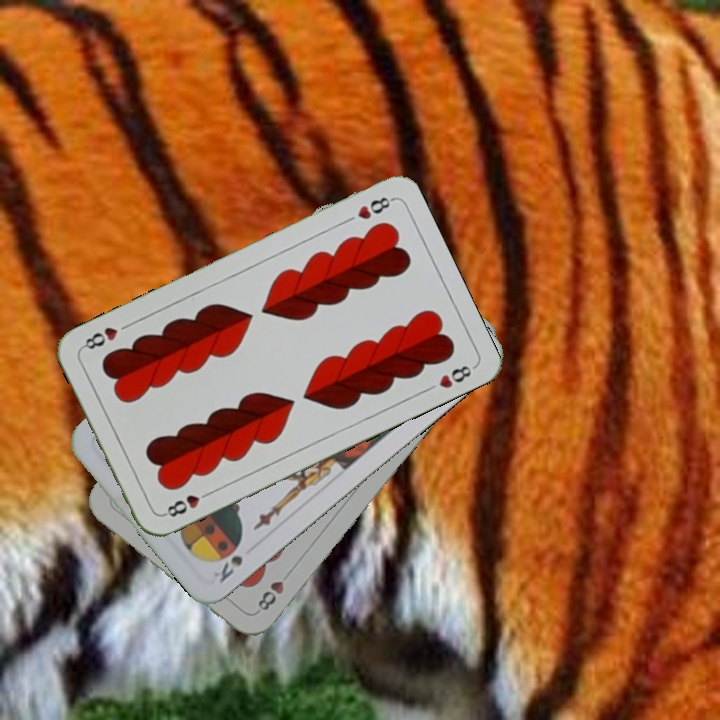H8: (253, 566, 294, 614), (159, 487, 215, 520), (353, 192, 396, 222)
SK: (209, 551, 246, 586)
